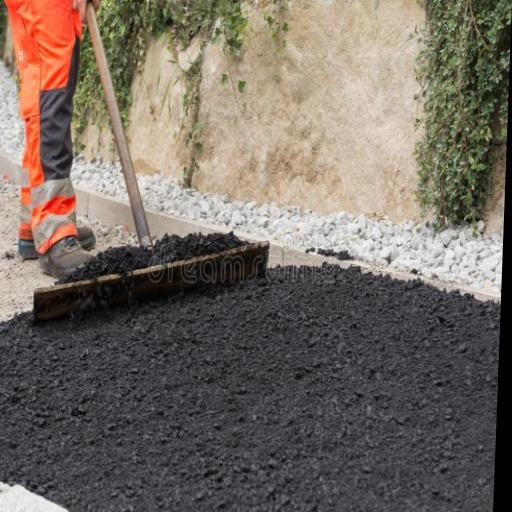safety_boots: (32, 241, 90, 280), (72, 223, 103, 244)
